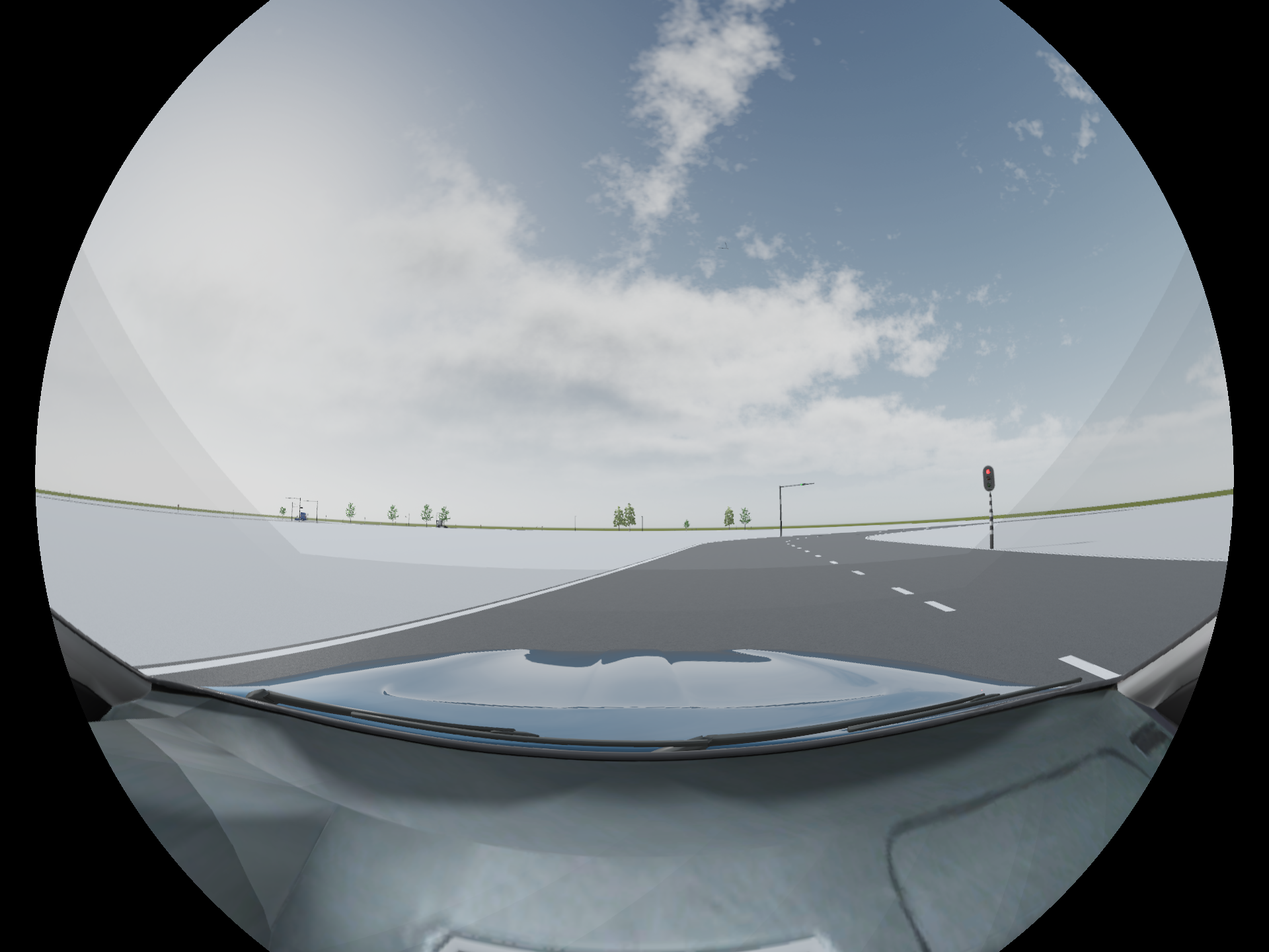Red Light: (983, 465, 997, 492)
